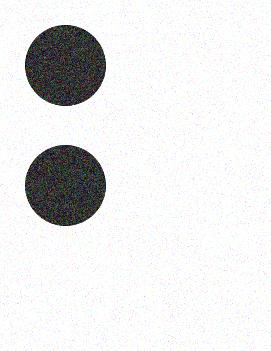B: (17, 20, 258, 339)
